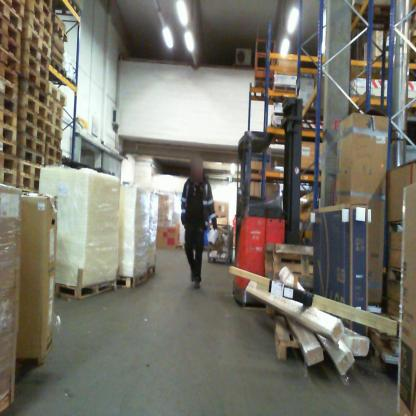forklift: (230, 90, 312, 306)
pallet: (263, 241, 311, 311), (273, 291, 310, 363), (272, 245, 317, 290), (56, 275, 118, 304), (17, 343, 62, 374), (369, 329, 398, 372), (102, 271, 148, 292), (41, 1, 81, 25), (23, 54, 51, 83), (23, 12, 51, 41), (16, 87, 46, 114), (20, 77, 49, 104), (26, 1, 53, 28), (0, 45, 24, 75), (270, 82, 301, 104), (3, 382, 23, 416), (26, 43, 54, 67), (18, 110, 49, 131), (18, 119, 46, 142), (20, 26, 50, 47), (18, 161, 51, 180), (2, 4, 23, 32), (17, 133, 47, 152), (2, 22, 23, 49), (23, 64, 48, 85), (1, 59, 18, 88), (15, 149, 45, 165), (1, 38, 21, 62), (45, 156, 67, 177), (47, 97, 67, 118), (252, 78, 271, 100), (47, 110, 64, 133), (51, 20, 69, 41), (49, 85, 66, 106), (0, 79, 17, 100), (2, 169, 17, 192), (49, 62, 68, 80), (0, 125, 17, 145), (1, 109, 19, 127), (20, 177, 46, 189), (34, 2, 56, 16), (43, 135, 61, 152), (1, 155, 18, 173), (0, 93, 18, 109), (45, 126, 64, 141), (143, 263, 157, 282), (0, 142, 16, 157), (48, 151, 68, 162), (7, 4, 27, 12)
stillage: (207, 218, 238, 265)
